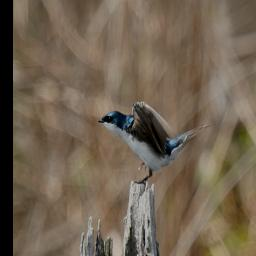Swallow: (97, 99, 210, 186)
